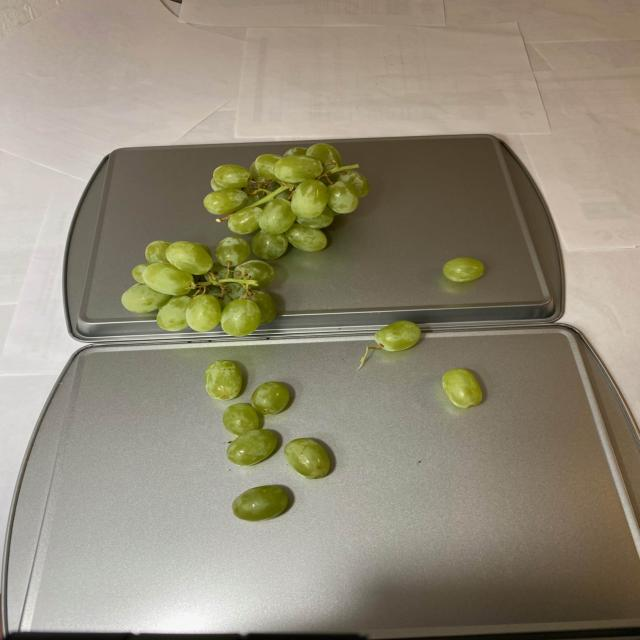grapes: (123, 143, 368, 334), (205, 360, 330, 522), (374, 255, 490, 408)
